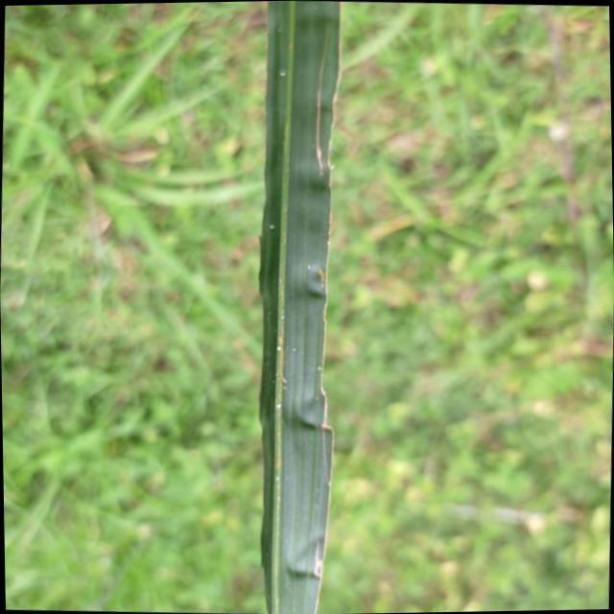Boron: (256, 0, 340, 614)
